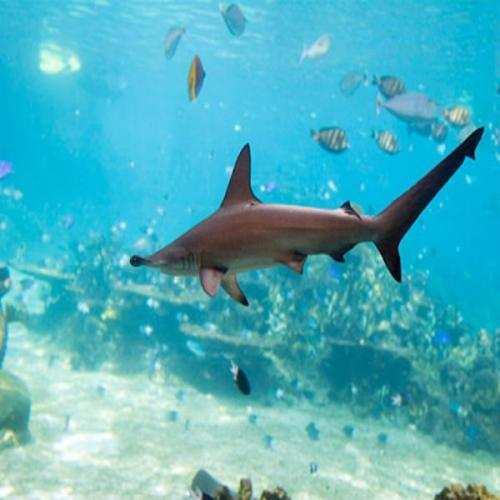shark-endangered: (130, 125, 486, 308)
